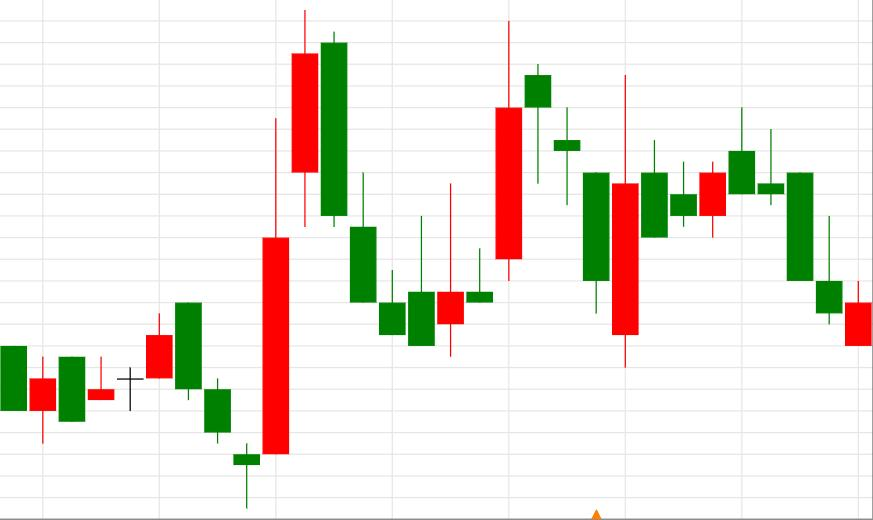hanging_man_fall: (408, 22, 552, 356)
